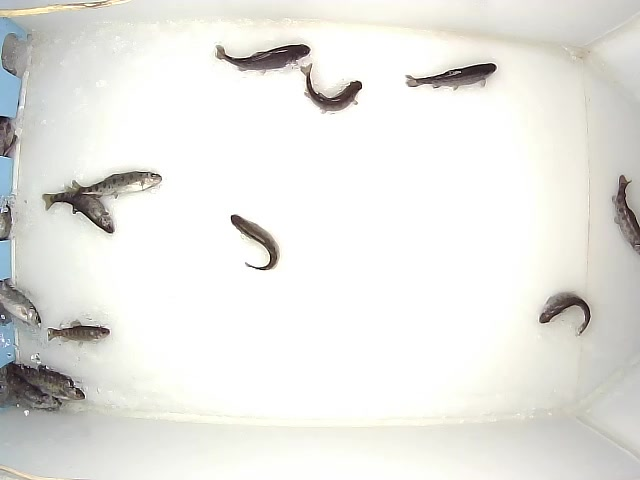fish: (42, 168, 163, 214), (210, 41, 314, 75), (301, 62, 365, 116), (229, 211, 279, 275), (7, 364, 85, 400), (403, 62, 495, 92), (66, 183, 114, 238), (540, 291, 592, 336), (46, 322, 114, 343)
